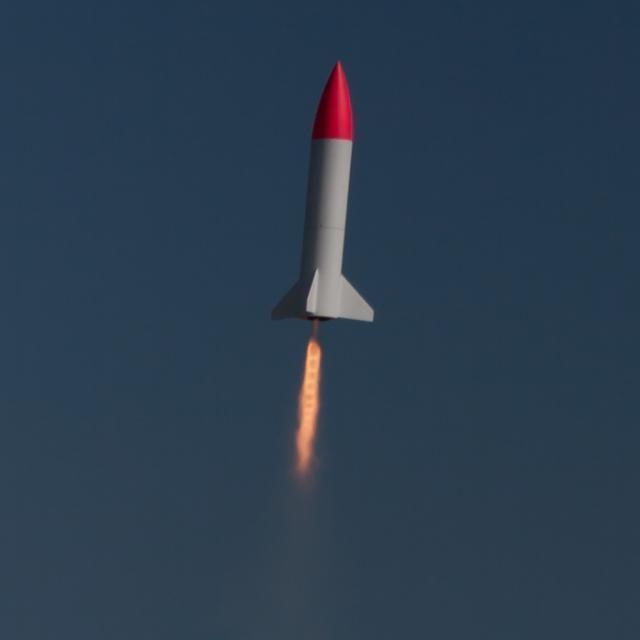missile: (283, 56, 377, 334)
